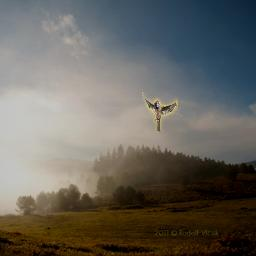Sparrow: (142, 92, 178, 132)
